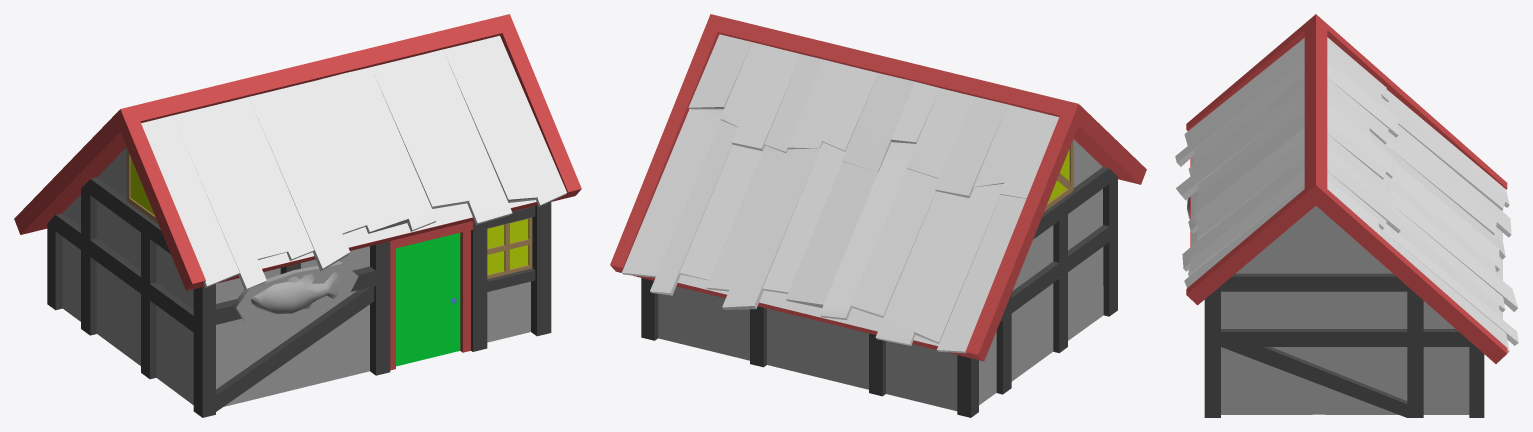
File: Harbor_House_2.fbx
3 views of the same model, side by side, from view 1: azimuth 30°, elevation 25°; view 2: azimuth 150°, elevation 25°; view 3: azimuth 270°, elevation 25° (orthographic). The views are drawn at different scales.
Parts seen in each view (by area): view 1: Harbor_House_2, Harbor_House_2_Fish; view 2: Harbor_House_2; view 3: Harbor_House_2.
Part boxes in pixels (x1,y1,x2,y2): Harbor_House_2: (14,14,581,417); Harbor_House_2_Fish: (232,261,358,323); Harbor_House_2: (610,14,1146,417); Harbor_House_2: (1175,14,1518,417).
Size of the model in its own units: 773 by 510 by 656.
